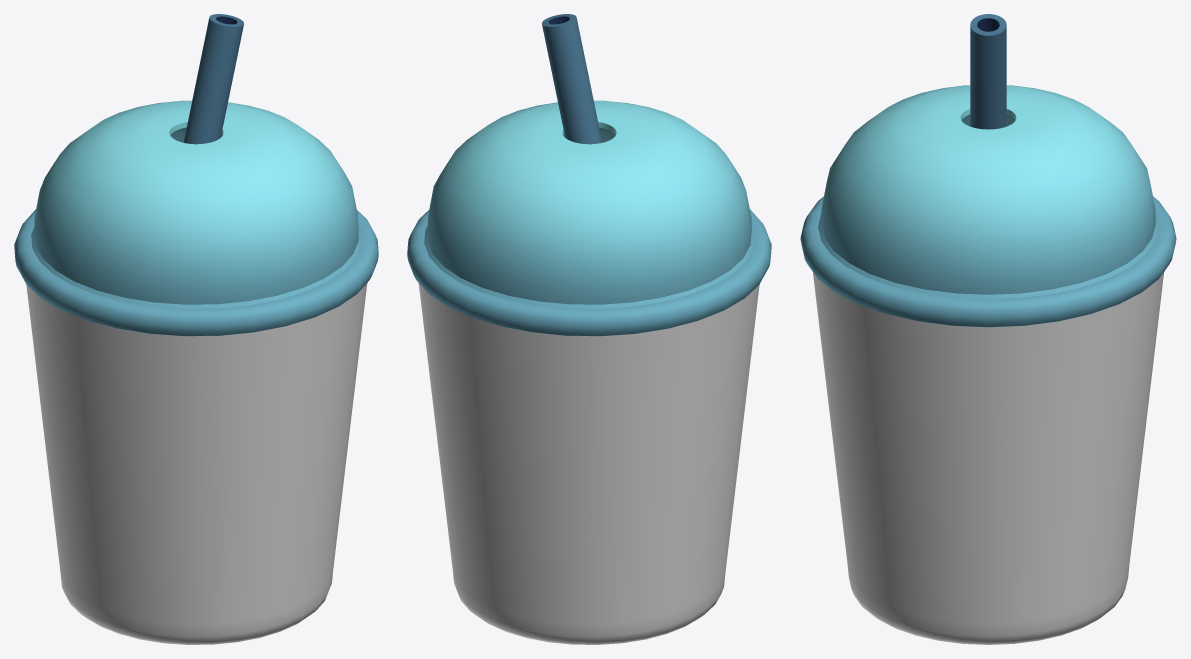
The model's file is Cocktail 2.fbx.
3 renders of one model, left to right at view 1: azimuth 30°, elevation 25°; view 2: azimuth 150°, elevation 25°; view 3: azimuth 270°, elevation 25°, orthographic. The views are drawn at different scales.
Visible parts, largest first — view 1: Cocktail 2; view 2: Cocktail 2; view 3: Cocktail 2.
Part boxes in pixels (x1,y1,x2,y2): Cocktail 2: (14, 14, 378, 644); Cocktail 2: (407, 14, 771, 644); Cocktail 2: (800, 14, 1176, 644).
Size of the model in its own units: 11.11 by 19.08 by 11.11.
